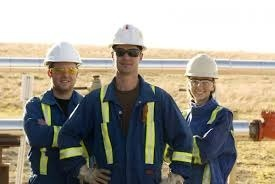helmet: (108, 22, 150, 52), (183, 51, 222, 81), (42, 40, 83, 68)
person with partial safety: (94, 22, 167, 184), (25, 41, 90, 171), (181, 52, 242, 179)
